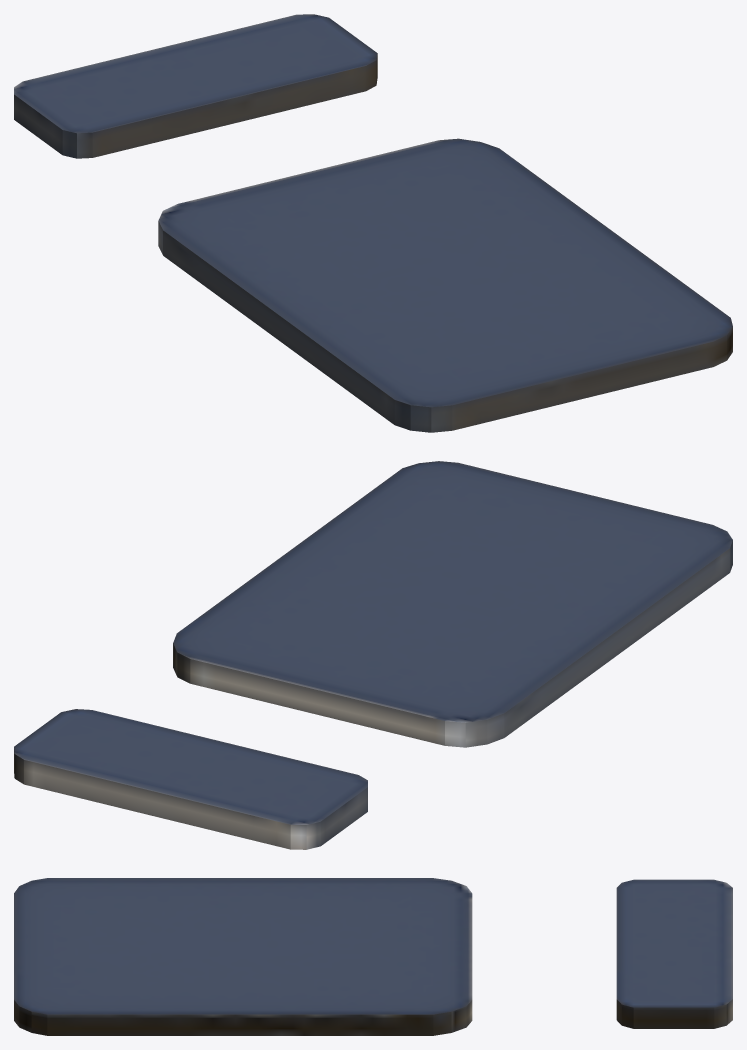
Rendered from FordF700ArmoredSideWindows_WorldItem.fbx.
The picture shows the model from 3 angles, top to bottom: view 1: azimuth 30°, elevation 25°; view 2: azimuth 150°, elevation 25°; view 3: azimuth 270°, elevation 25°; orthographic projection. The views are drawn at different scales.
Visible parts, largest first — view 1: RearRightWindow_obj; view 2: RearRightWindow_obj; view 3: RearRightWindow_obj.
Part boxes in pixels (box(x1,y1,x2,y2)): RearRightWindow_obj: box(14, 14, 732, 432); RearRightWindow_obj: box(14, 461, 732, 849); RearRightWindow_obj: box(14, 878, 732, 1035).
Size of the model in its own units: 0.6136 by 0.0576 by 1.36.
